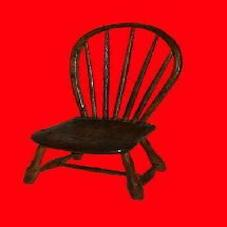chair: (14, 17, 192, 212)
